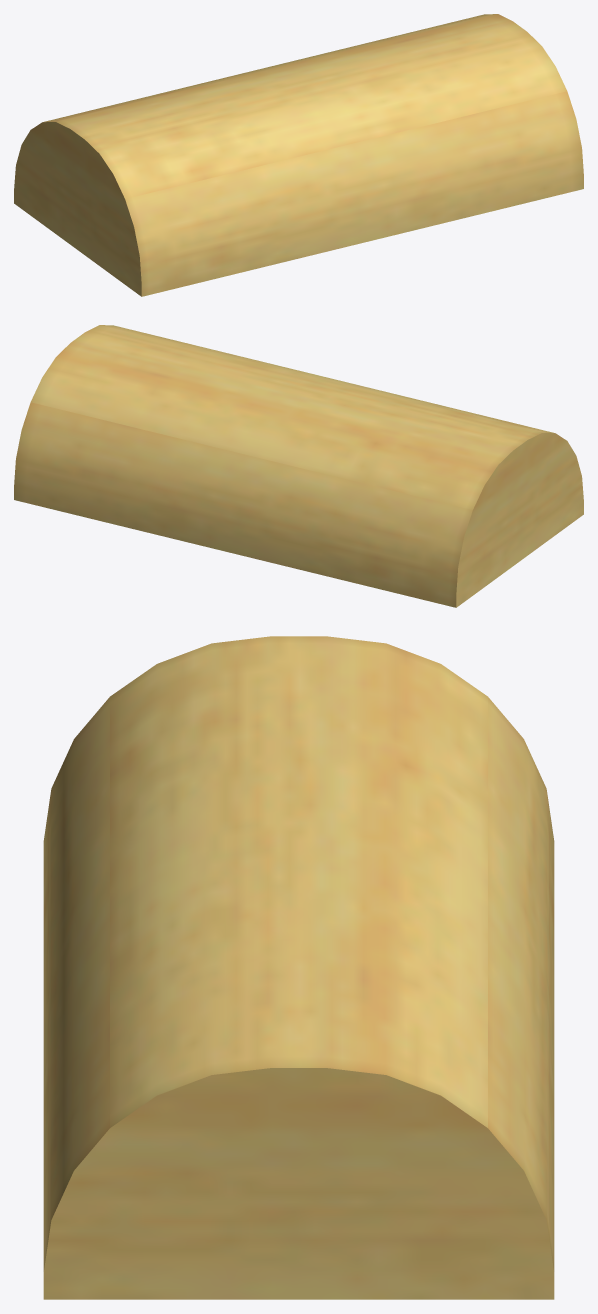
The model's file is SemiCylinder.fbx.
3 views of the same model, one above another, from view 1: azimuth 30°, elevation 25°; view 2: azimuth 150°, elevation 25°; view 3: azimuth 270°, elevation 25° (orthographic). The views are drawn at different scales.
Visible parts, largest first — view 1: Cube.004; view 2: Cube.004; view 3: Cube.004.
Boxes of the visible parts, bbox=[...] form: Cube.004: bbox=[14, 14, 583, 296]; Cube.004: bbox=[14, 325, 583, 607]; Cube.004: bbox=[43, 636, 554, 1299].
Bounding box in the file's own units: 800 × 200 × 400.
